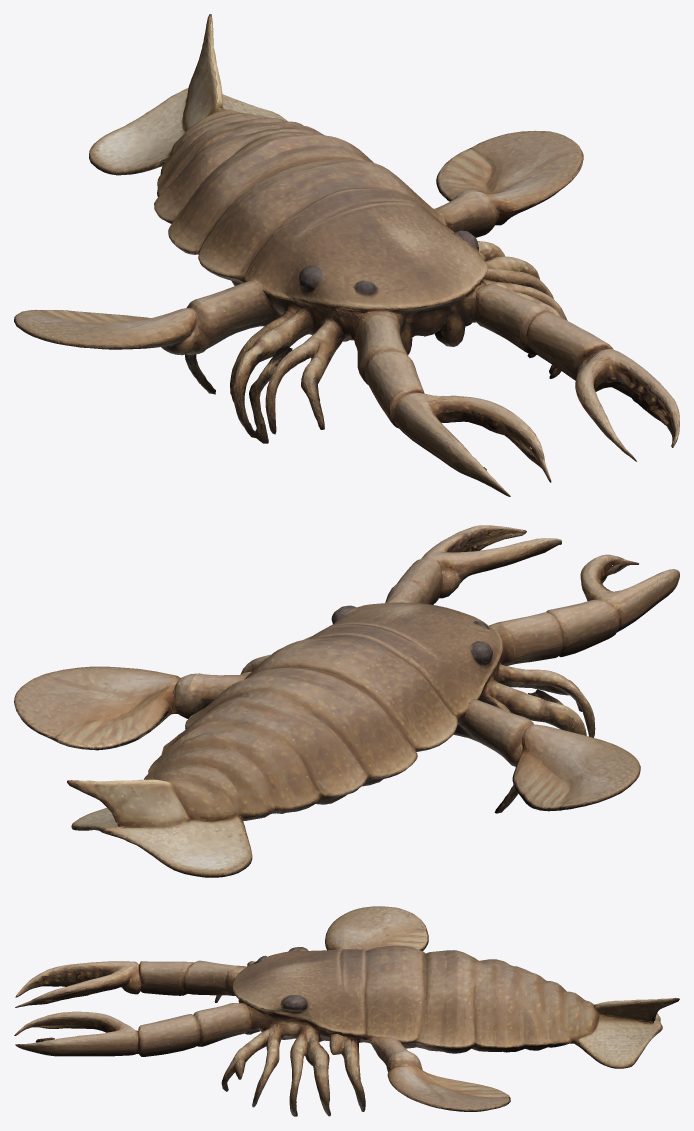
The picture shows the model from 3 angles, top to bottom: view 1: azimuth 30°, elevation 25°; view 2: azimuth 150°, elevation 25°; view 3: azimuth 270°, elevation 25°; orthographic projection. The views are drawn at different scales.
Visible parts, largest first — view 1: world; view 2: world; view 3: world.
Part boxes in pixels (<box>): world: <box>14,14,679,496</box>; world: <box>14,525,679,877</box>; world: <box>14,906,679,1116</box>.
Bounding box in the file's own units: 0.7323 × 0.1945 × 1.01.
2 materials, 2 textured.
